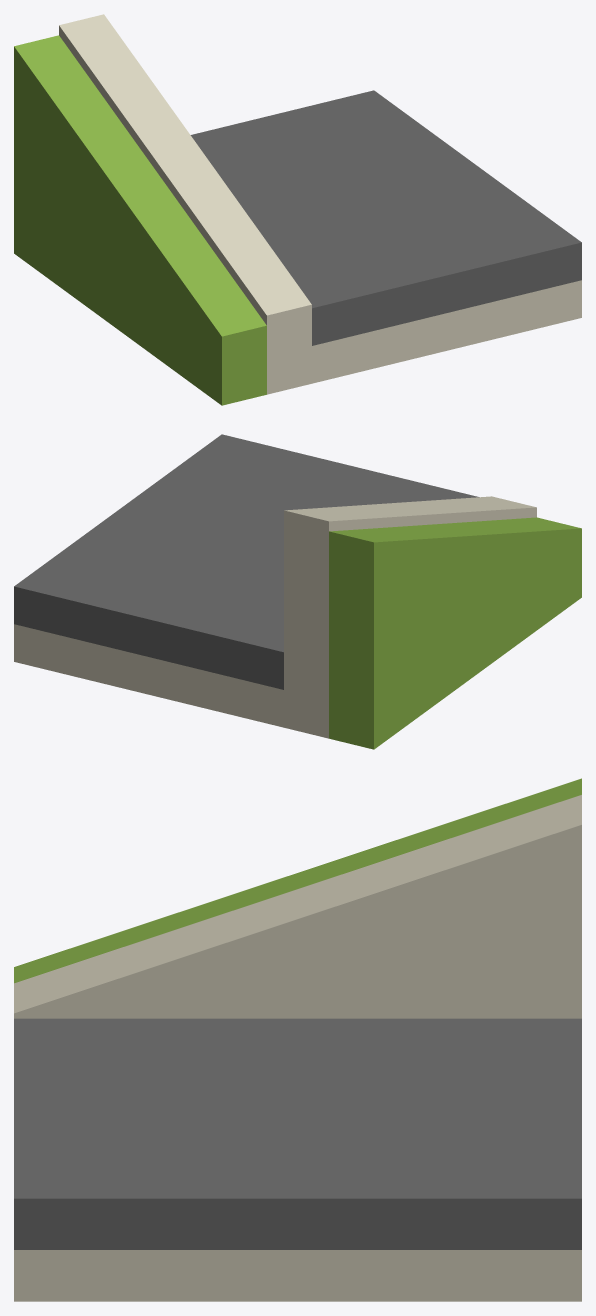
The model's file is tile282.dae.
3 renders of one model, top to bottom at view 1: azimuth 30°, elevation 25°; view 2: azimuth 150°, elevation 25°; view 3: azimuth 270°, elevation 25°, orthographic. The views are drawn at different scales.
Visible parts, largest first — view 1: tile282; view 2: tile282; view 3: tile282.
Boxes of the visible parts, x1=… form: tile282: x1=14, y1=14, x2=581, y2=405; tile282: x1=14, y1=434, x2=581, y2=749; tile282: x1=14, y1=778, x2=581, y2=1301.
Bounding box in the file's own units: 1 × 0.5767 × 1.
